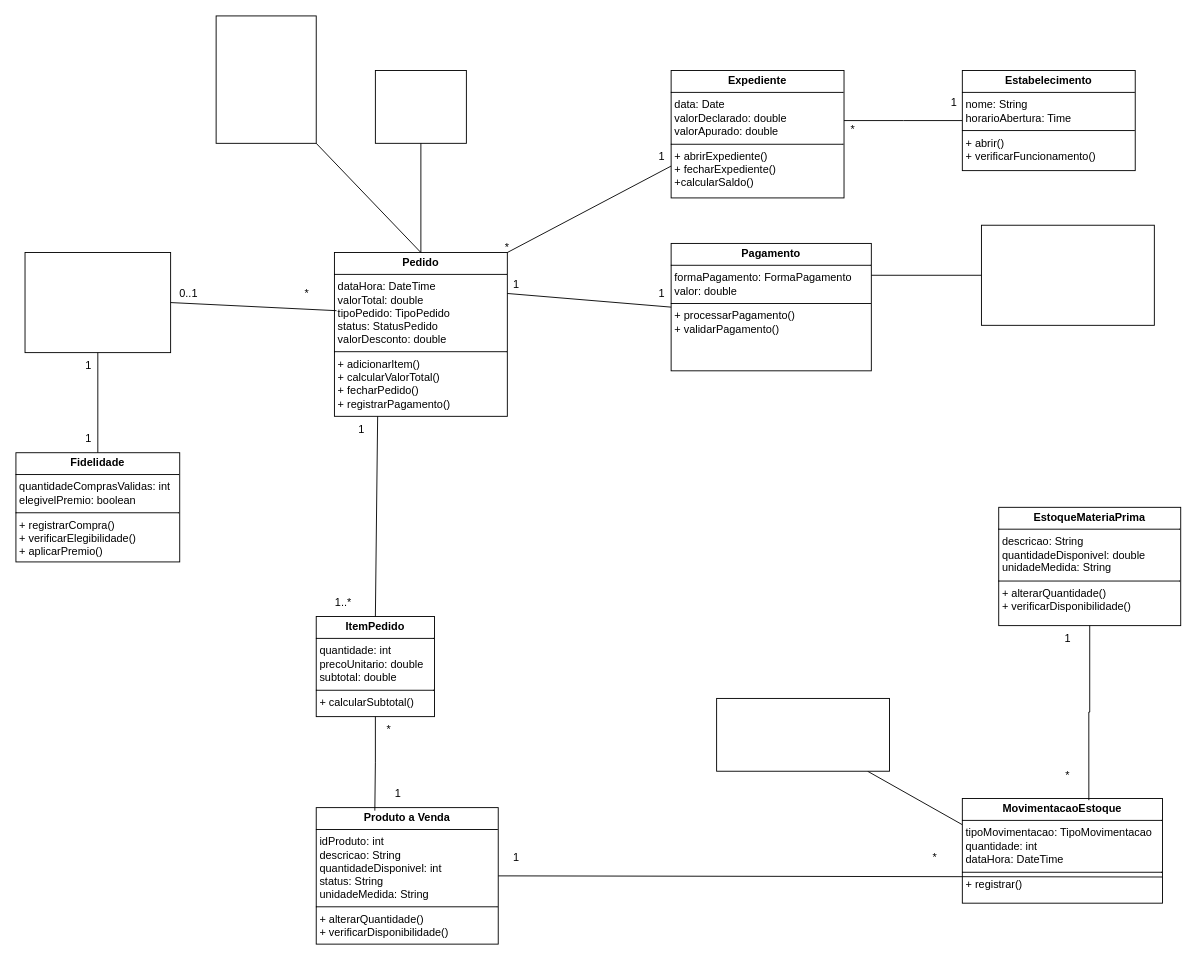
This 1197x960 diagram has some shape labels left out. The shapes that lost their labels are listed below. From the top down, each one's centre as x and y in pixels, then its label:
the point at 265,79: <<enumeration>> StatusPedido ABERTO PAGO CONCLUIDO CANCELADO ENTREGUE
the point at 420,106: <<enumeration>> TipoPedido BALCAO RESERVA
the point at 1067,274: <<enumeration>> FormaPagamento DINHEIRO PIX CREDITO DEBITO
the point at 97,302: Cliente nome: String cpf: String + atualizarDados() + ConsultarFidelidade()
the point at 803,734: <<enumeration>> TipoMovimentacao ENTRADA SAIDA
